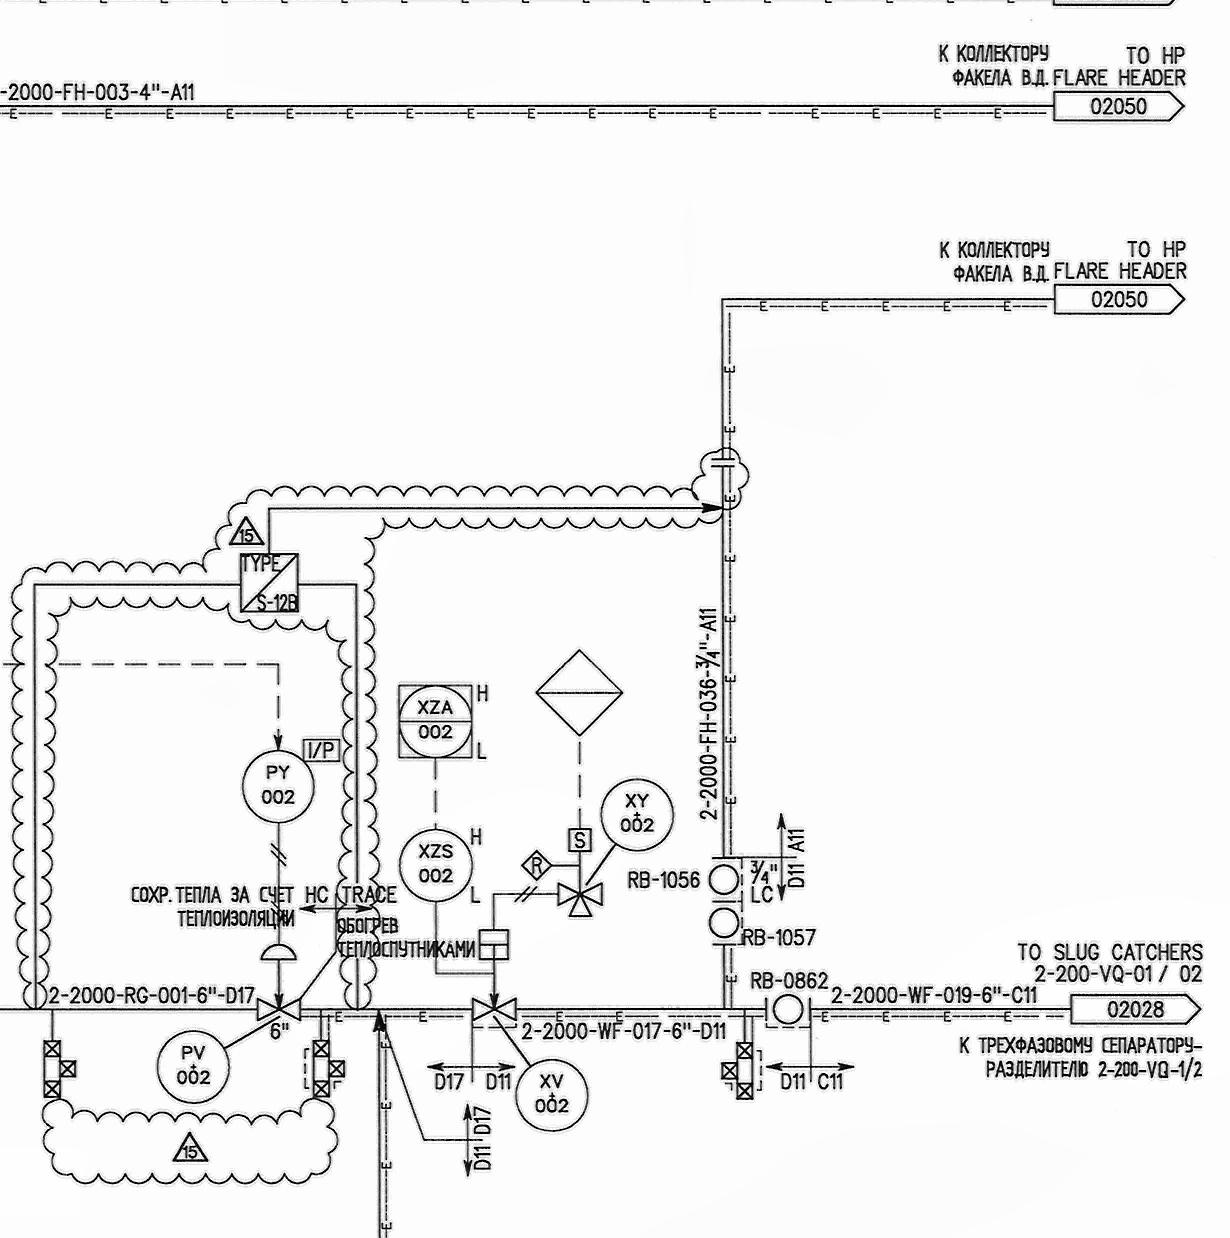2 WAY VALVE: (36, 1037, 81, 1103), (306, 1034, 349, 1097), (719, 1040, 760, 1104)
3 WAY GENERAL VALVE: (551, 881, 610, 920)
DCS ACCESSIBLE: (390, 676, 474, 772)
DIAPHRAGM ACTUATED VALVE: (256, 942, 303, 1027)
FIELD INSTRUMENT: (150, 1024, 235, 1108), (596, 772, 681, 854), (396, 823, 478, 906), (514, 1054, 594, 1138), (240, 749, 319, 827), (699, 852, 745, 902), (704, 902, 750, 944), (764, 990, 810, 1030)
HARDWIRED INTERLOCK FIELD: (516, 846, 556, 882)
HARDWIRED INTERLOCK PRIMARY.: (531, 638, 629, 740)
IP CONVERTER: (300, 734, 346, 768)
PISTON ACTUATED VALVE: (470, 925, 520, 1028)
REVISION TRIANGLE: (170, 1128, 213, 1170), (229, 515, 267, 547)
SPECIAL PIPING ITEM: (231, 551, 304, 620)
SPEED FLOW METER: (565, 825, 595, 857)
